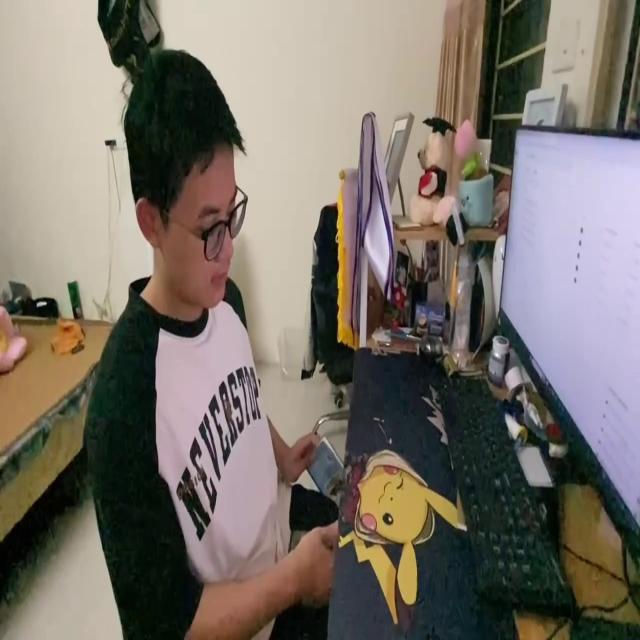book: (304, 435, 349, 513)
laptop: (496, 119, 640, 573)
student: (82, 42, 338, 640)
